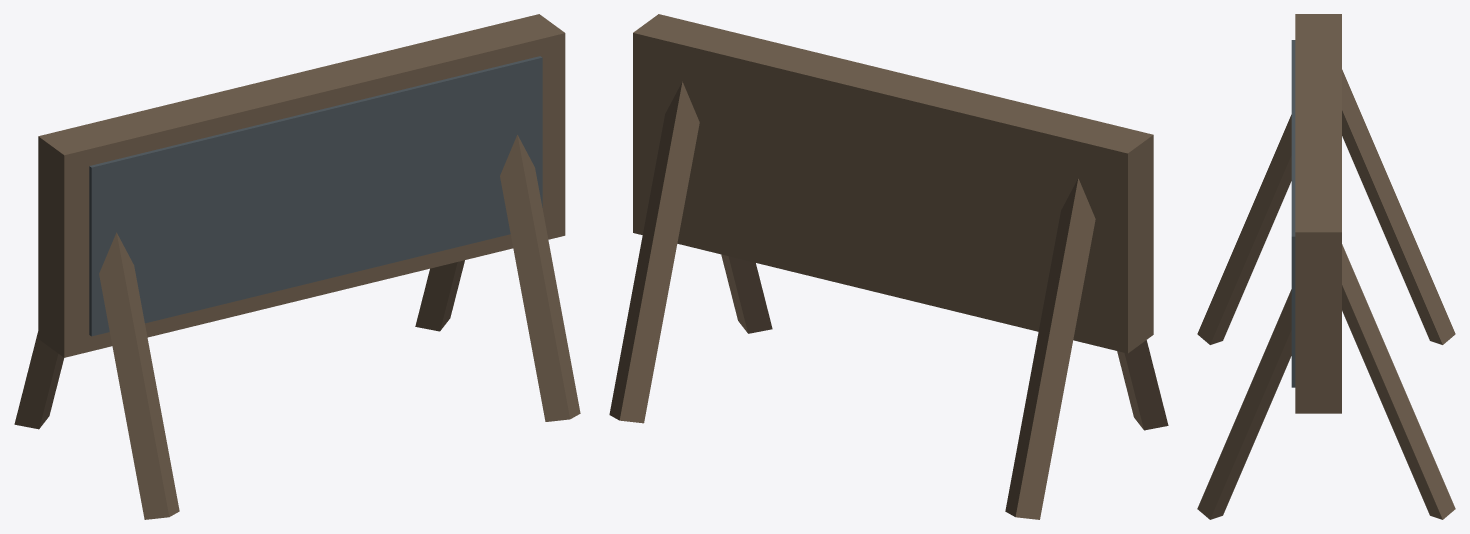
File: slate_board.glb
3 views of the same model, side by side, from view 1: azimuth 30°, elevation 25°; view 2: azimuth 150°, elevation 25°; view 3: azimuth 270°, elevation 25° (orthographic). The views are drawn at different scales.
Visible parts, largest first — view 1: slate_board; view 2: slate_board; view 3: slate_board.
Boxes of the visible parts, x1,y1,x2,y2 form: slate_board: (14, 14, 580, 519); slate_board: (609, 14, 1168, 519); slate_board: (1197, 14, 1455, 519).
Bounding box in the file's own units: 1.92 × 1.25 × 0.96.
